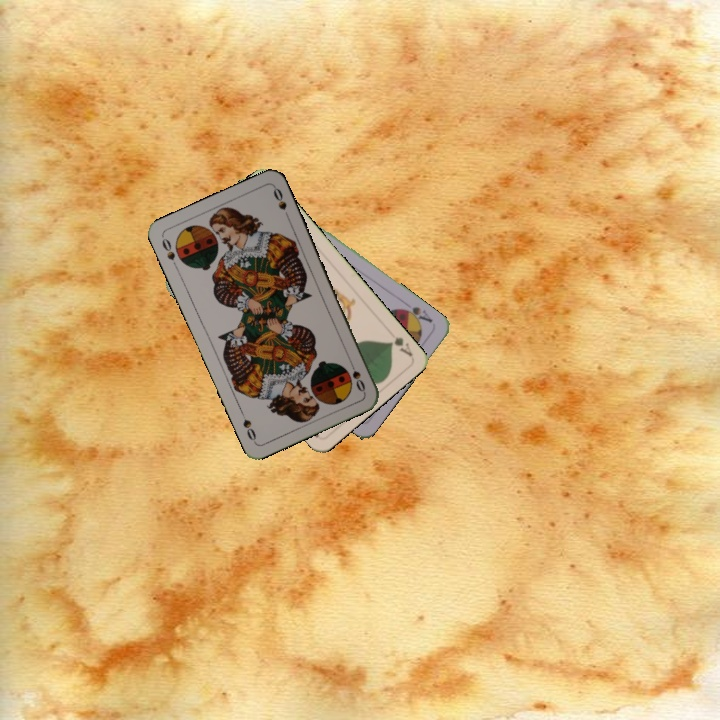GA: (385, 333, 415, 359)
SA: (398, 299, 435, 326)
SO: (345, 356, 368, 395), (158, 234, 181, 272)
